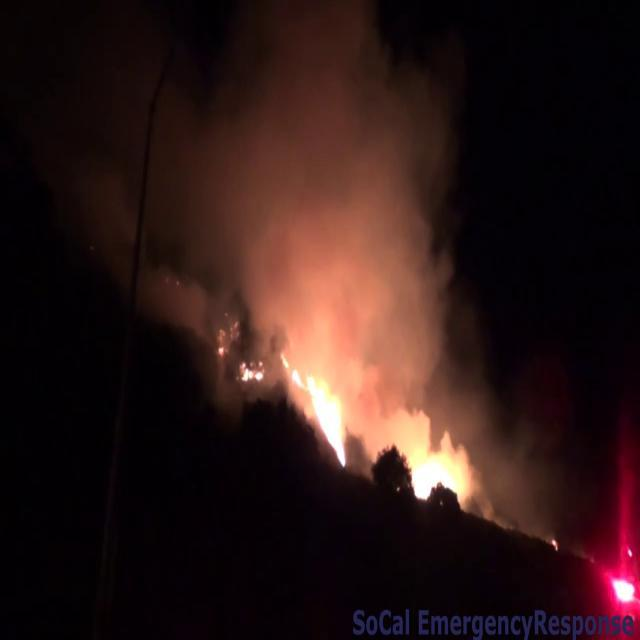Fire: (284, 331, 356, 471), (401, 420, 475, 514)
Smoke: (100, 1, 490, 324)
